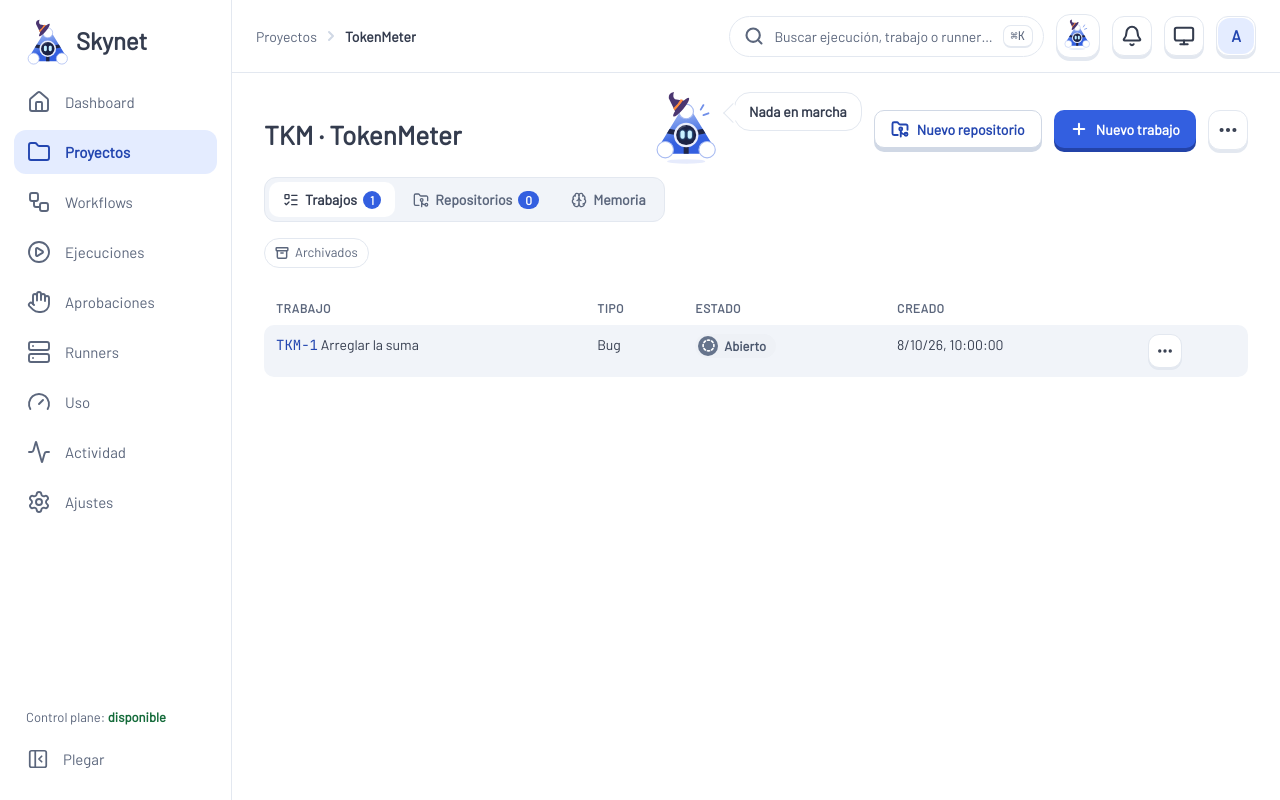
Test case: Página del proyecto › enseña los trabajos y, en la otra pestaña, los repositorios
The width and height of the screenshot is (1280, 800).
Expected: the text "Bug" is shown, [585,324,683,376]
Step 1. Click the tab "Repositorios 0" → (476, 200), box [399,182,553,217]
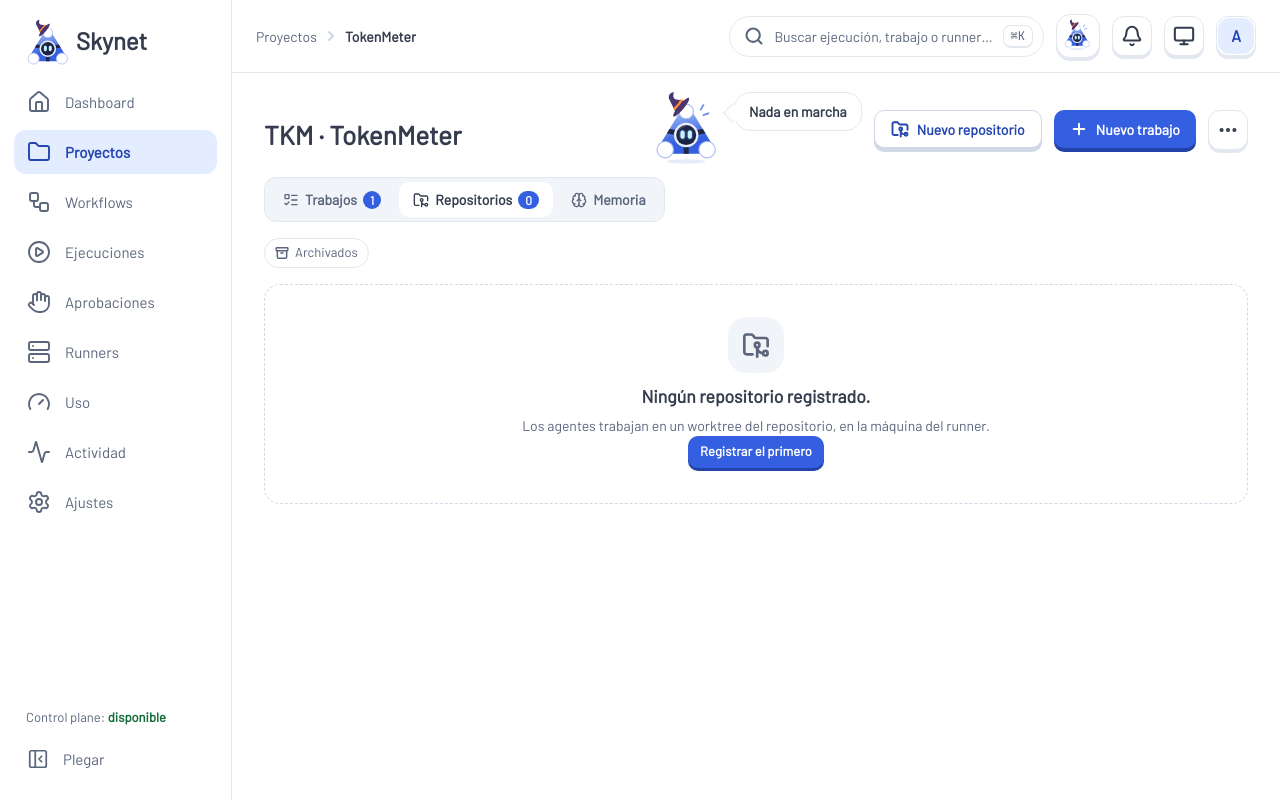
Expected: the text "Ningún repositorio registrado." is shown, [642,382,870,409]
